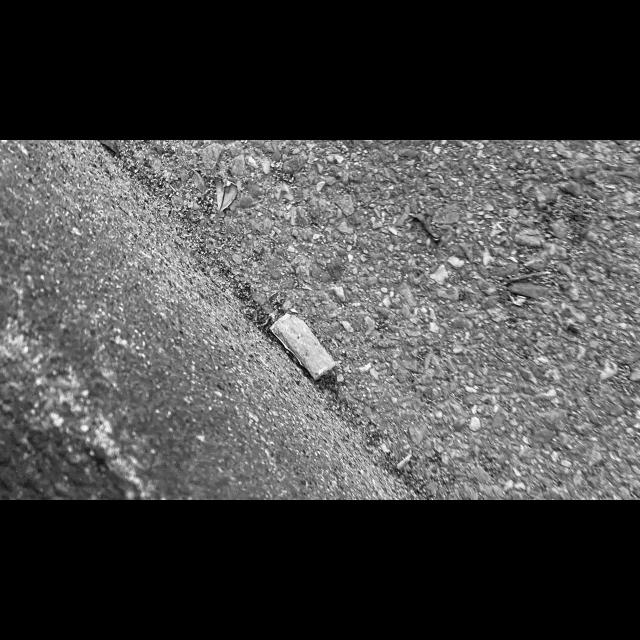cigarette: (269, 307, 336, 382)
